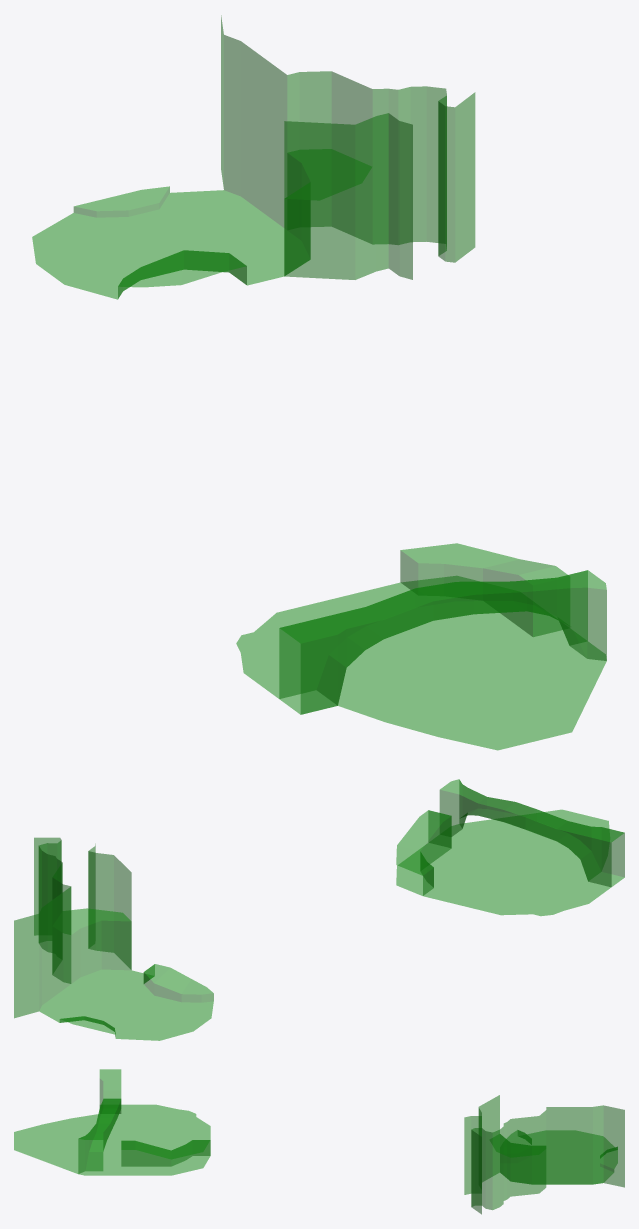
File: hit_A.obj
The picture shows the model from 3 angles, top to bottom: view 1: azimuth 30°, elevation 25°; view 2: azimuth 150°, elevation 25°; view 3: azimuth 270°, elevation 25°; orthographic projection. The views are drawn at different scales.
Size of the model in its own units: 90 by 32 by 171.
